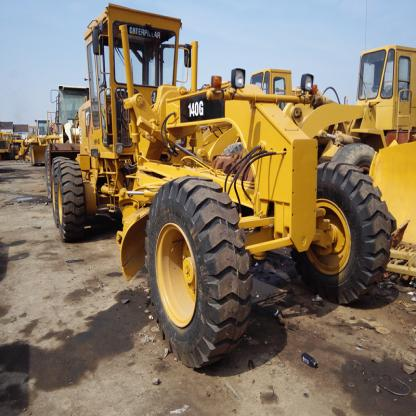bull_dozer/loader/grader: (31, 4, 397, 374)
